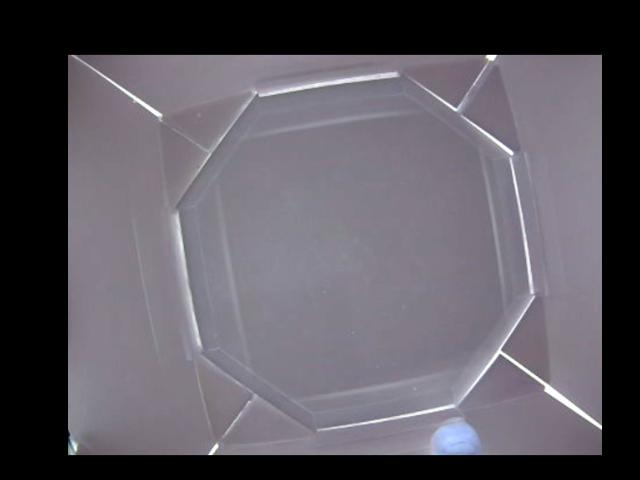Pebble: (430, 421, 480, 455)
